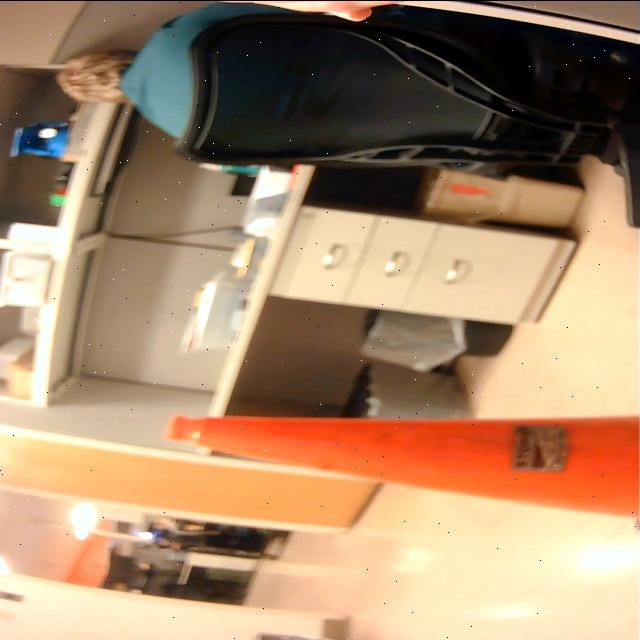traffic cone: (156, 409, 640, 536)
